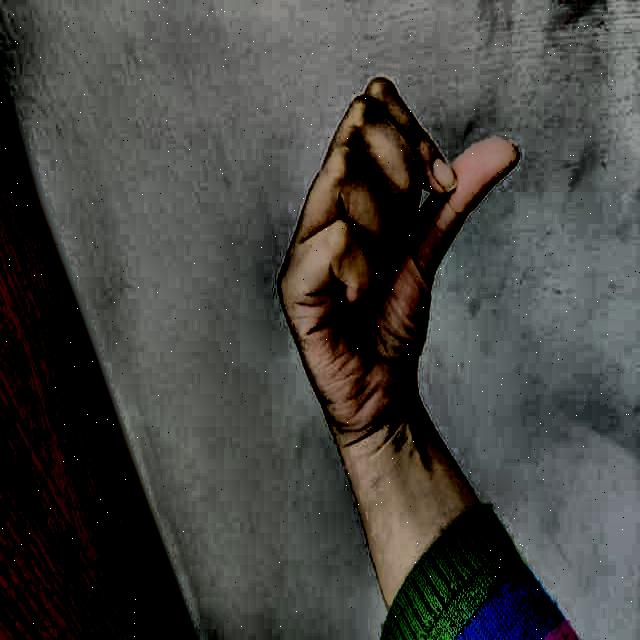Ay: (254, 56, 532, 456)
